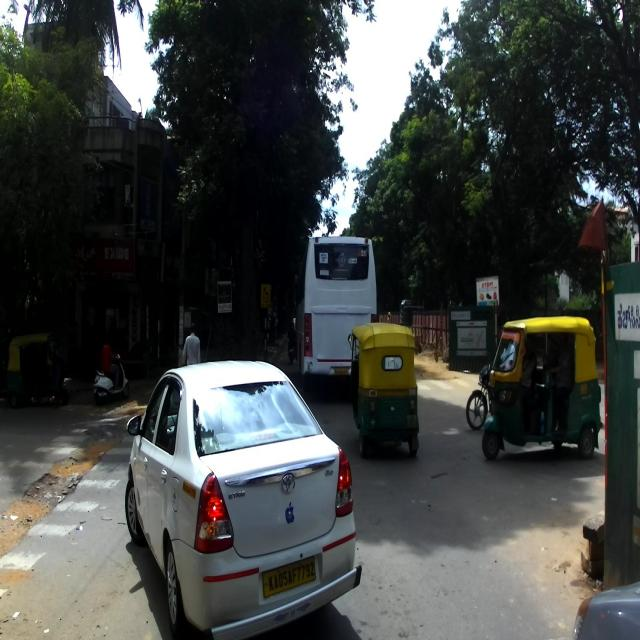Car_Maruti-Suzuki: (574, 580, 640, 640)
Car_Toyota: (127, 328, 363, 640)
autorickshaw: (482, 316, 602, 461), (348, 322, 420, 458), (5, 334, 67, 408)
bus: (294, 232, 379, 390)
motorcycle_Hero: (466, 360, 492, 433)
scooter: (92, 352, 130, 404)
